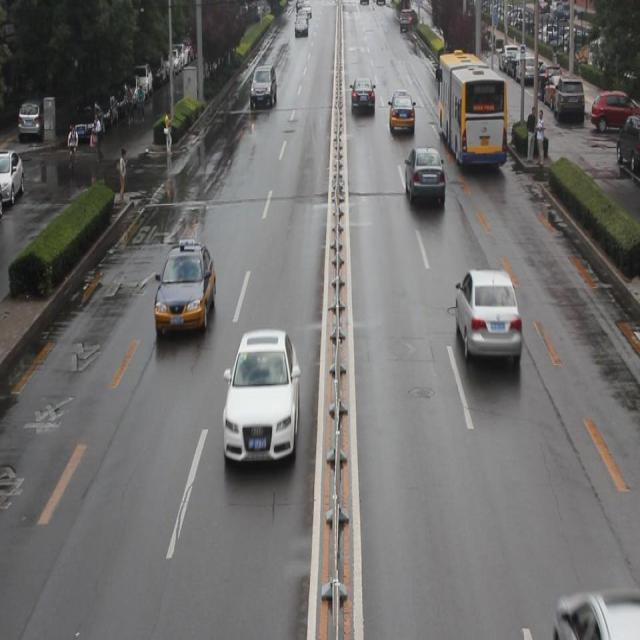car: (228, 326, 295, 468), (452, 264, 519, 362), (154, 238, 216, 336), (552, 591, 640, 639), (403, 148, 444, 210), (388, 92, 412, 138), (350, 80, 376, 118)
van: (438, 56, 504, 168)
